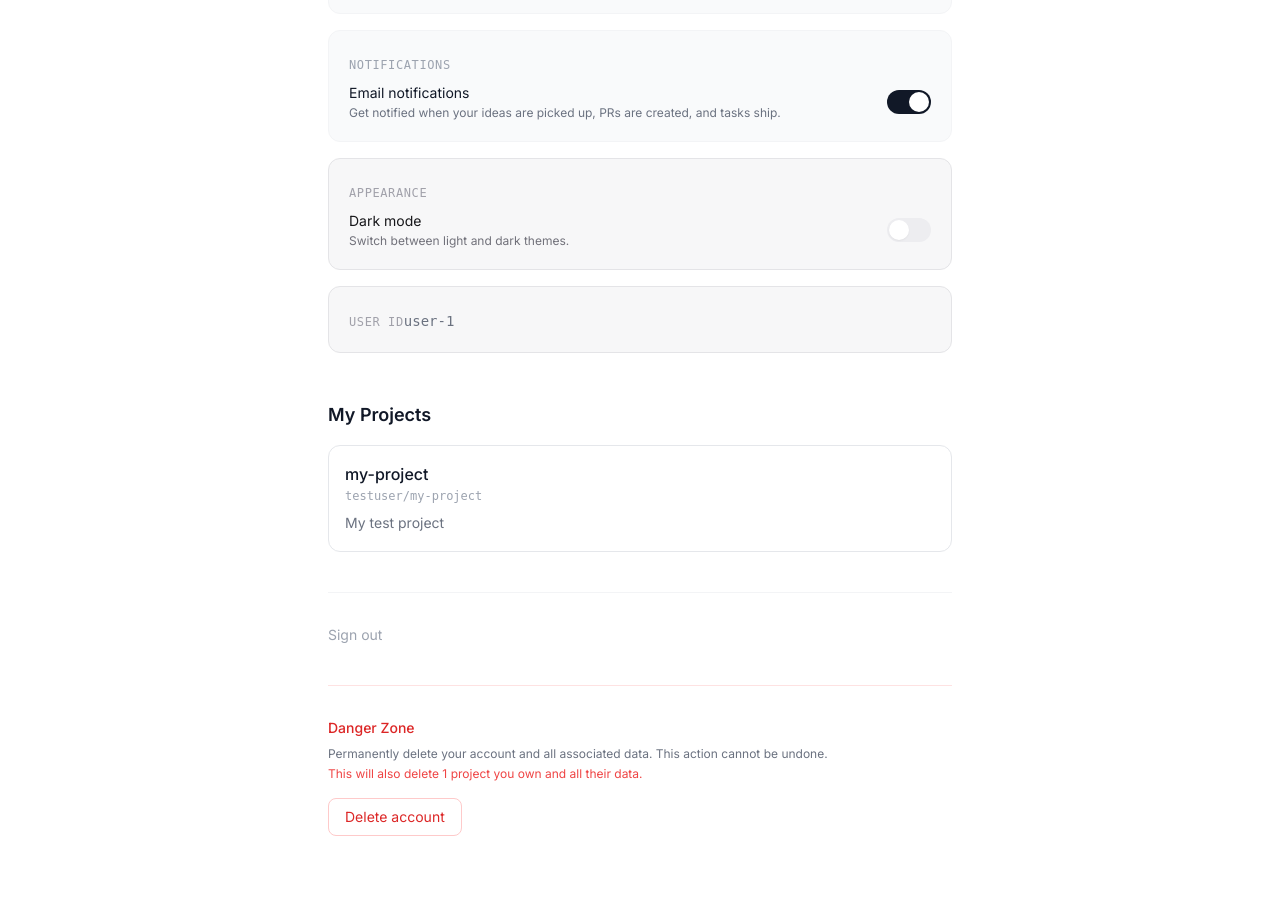
ProfilePage › sign out › opens confirmation dialog when clicking Sign out
(page scrolled)
Step 1. Click the button "Sign out" → click(355, 635), box left=328, top=625, right=382, bottom=645
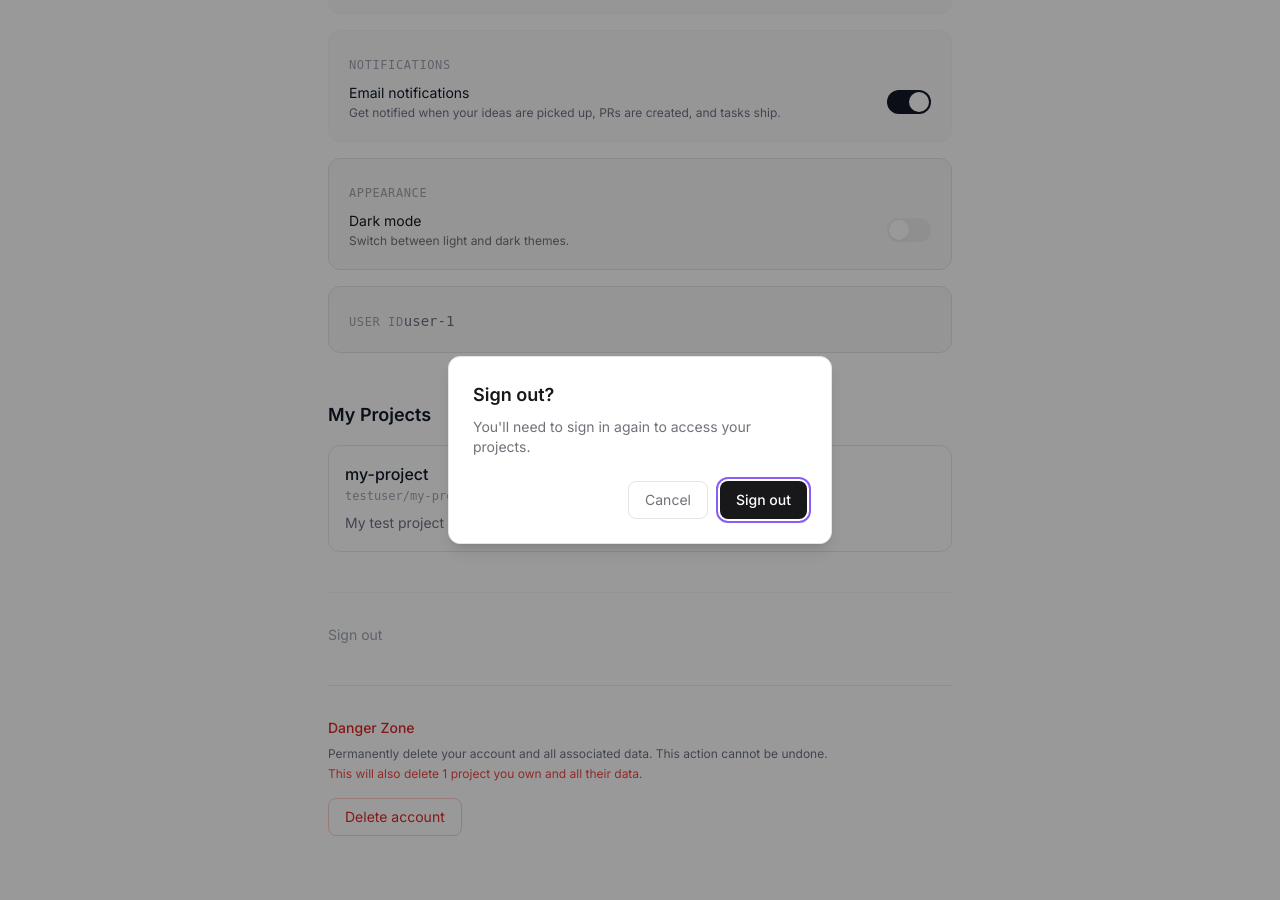
expect the heading "Sign out?" is shown: met, box left=473, top=384, right=554, bottom=405
expect the text "You'll need to sign in again to access your projects." is shown: met, box left=473, top=418, right=751, bottom=455
